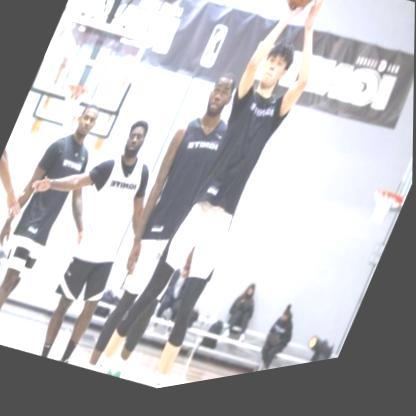basketball: (281, 0, 324, 25)
